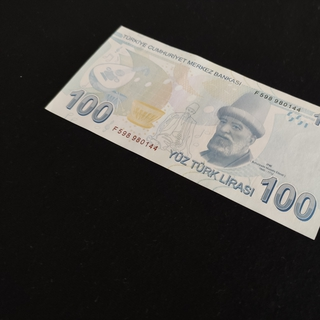100TLBack: (43, 25, 320, 241)
